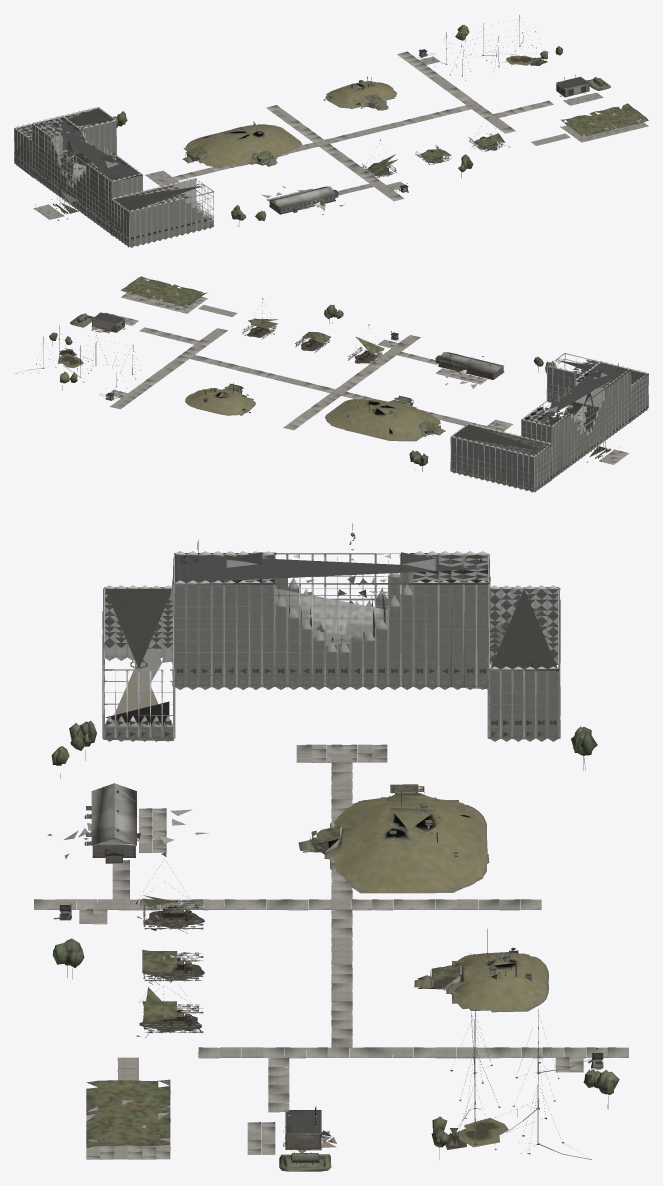
The model's file is site_cp_city_lo.glb.
3 renders of one model, top to bottom at view 1: azimuth 30°, elevation 25°; view 2: azimuth 150°, elevation 25°; view 3: azimuth 270°, elevation 25°, orthographic. The views are drawn at different scales.
Parts seen in each view (by area): view 1: b_hq_ruin|F_B, b_hq|F_A, deco|tile_conc, b_bunker1|F_A, deco|F_A, b_bunker1_ruin|F_B, b_barracks|F_A, b_comms|F_A, deco_trees|F_A, b_comms_ruin|F_B, b_des|F_A, b_antenna_ruin|F_B (+1 smaller); view 2: b_hq_ruin|F_B, b_hq|F_A, deco|tile_conc, b_bunker1|F_A, b_bunker1_ruin|F_B, deco|F_A, b_barracks|F_A, b_comms|F_A, b_comms_ruin|F_B, deco_trees|F_A, b_des|F_A, b_antenna_ruin|F_B (+3 smaller); view 3: b_hq_ruin|F_B, b_hq|F_A, deco|tile_conc, b_bunker1|F_A, b_bunker1_ruin|F_B, deco|F_A, b_comms|F_A, b_barracks|F_A, deco_trees|F_A, b_comms_ruin|F_B, b_des|F_A, b_antenna_ruin|F_B (+4 smaller).
Boxes of the visible parts, left/top/right/bottom form: b_hq_ruin|F_B: left=14, top=107, right=213, bottom=247; b_hq|F_A: left=14, top=107, right=213, bottom=246; deco|tile_conc: left=33, top=51, right=648, bottom=219; b_bunker1|F_A: left=182, top=121, right=301, bottom=166; deco|F_A: left=560, top=103, right=648, bottom=138; b_bunker1_ruin|F_B: left=185, top=123, right=302, bottom=167; b_barracks|F_A: left=269, top=186, right=338, bottom=214; b_comms|F_A: left=323, top=76, right=396, bottom=110; deco_trees|F_A: left=113, top=24, right=562, bottom=226; b_comms_ruin|F_B: left=325, top=80, right=396, bottom=110; b_des|F_A: left=556, top=75, right=610, bottom=97; b_antenna_ruin|F_B: left=418, top=32, right=547, bottom=76; b_hq_ruin|F_B: left=450, top=359, right=648, bottom=492; b_hq|F_A: left=450, top=353, right=648, bottom=492; deco|tile_conc: left=105, top=289, right=628, bottom=464; b_bunker1|F_A: left=325, top=395, right=445, bottom=441; b_bunker1_ruin|F_B: left=325, top=400, right=443, bottom=441; deco|F_A: left=121, top=276, right=207, bottom=310; b_barracks|F_A: left=435, top=352, right=504, bottom=379; b_comms|F_A: left=185, top=383, right=255, bottom=415; b_comms_ruin|F_B: left=185, top=387, right=255, bottom=415; deco_trees|F_A: left=49, top=304, right=556, bottom=471; b_des|F_A: left=70, top=312, right=124, bottom=332; b_antenna_ruin|F_B: left=14, top=335, right=135, bottom=398; b_hq_ruin|F_B: left=102, top=551, right=560, bottom=741; b_hq|F_A: left=102, top=523, right=560, bottom=740; deco|tile_conc: left=34, top=744, right=628, bottom=1159; b_bunker1|F_A: left=298, top=784, right=489, bottom=892; b_bunker1_ruin|F_B: left=303, top=791, right=487, bottom=893; deco|F_A: left=86, top=1079, right=170, bottom=1157; b_comms|F_A: left=417, top=929, right=548, bottom=1011; b_barracks|F_A: left=84, top=783, right=136, bottom=863; deco_trees|F_A: left=51, top=720, right=619, bottom=1159; b_comms_ruin|F_B: left=414, top=950, right=548, bottom=1012; b_des|F_A: left=279, top=1106, right=331, bottom=1171; b_antenna_ruin|F_B: left=445, top=1012, right=591, bottom=1159.
Size of the model in its own units: 367 by 50.68 by 170.
35 materials, 25 textured.
